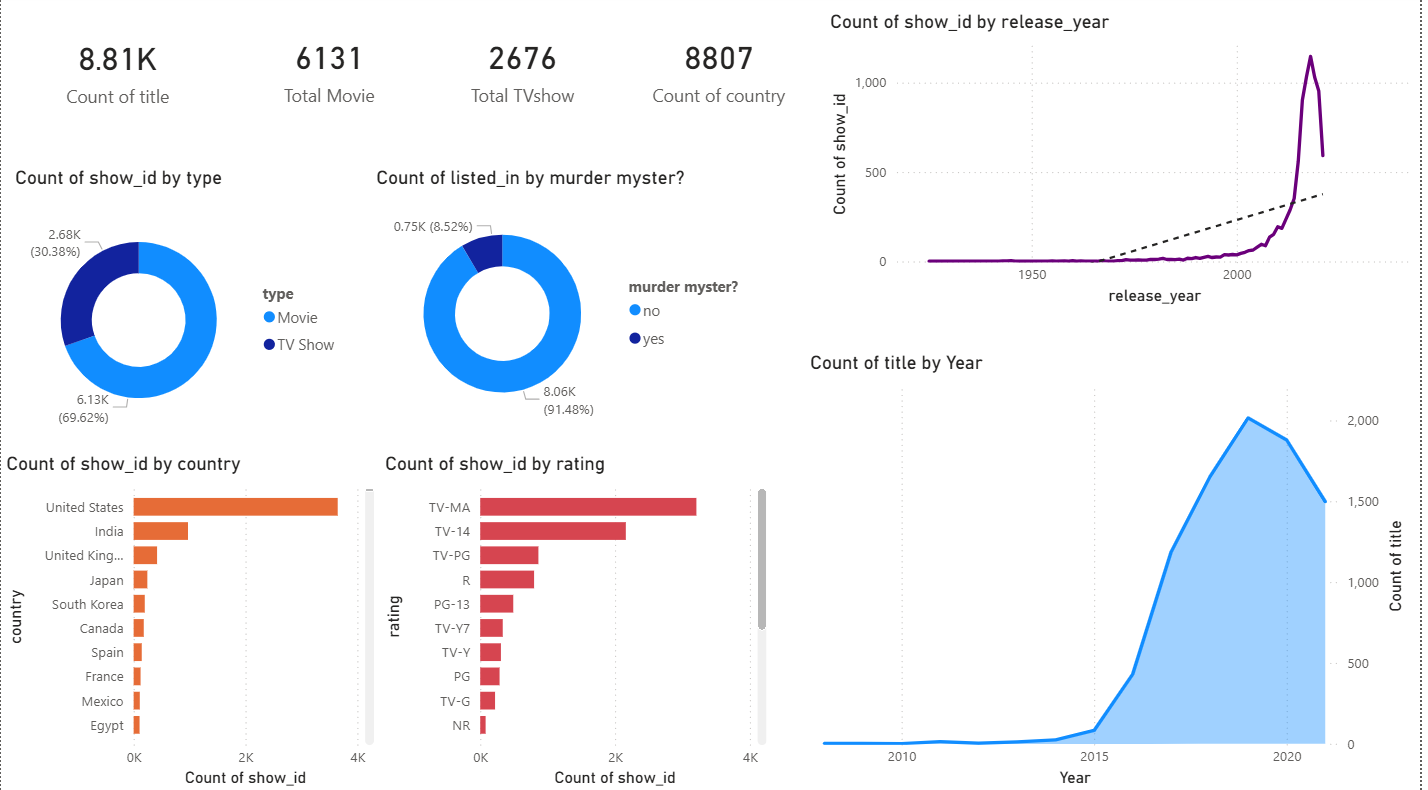

This screenshot's page, from the dashboard's own definition file:
{"tool":"powerbi","page":{"name":"Page 1","canvas":[1280,720],"ordinal":0},"visuals":[{"type":"donutChart","fields":{"Category":["netflix_titles.type"],"Y":["CountNonNull(netflix_titles.show_id)"]},"box":[8.1,155.8,307,258.1],"z":0},{"type":"lineChart","fields":{"Category":["netflix_titles.release_year"],"Y":["CountNonNull(netflix_titles.show_id)"]},"box":[742.8,14.7,537.6,270.5],"z":1000},{"type":"barChart","fields":{"Category":["netflix_titles.country"],"Y":["CountNonNull(netflix_titles.show_id)"]},"box":[0,413.7,341.5,306.6],"z":2000},{"type":"clusteredBarChart","fields":{"Category":["netflix_titles.rating"],"Y":["CountNonNull(netflix_titles.show_id)"]},"box":[341.5,413.7,353.9,306.6],"z":3000},{"type":"areaChart","fields":{"Category":["netflix_titles.date_added.Variation.Date Hierarchy.Year","netflix_titles.date_added.Variation.Date Hierarchy.Quarter","netflix_titles.date_added.Variation.Date Hierarchy.Month","netflix_titles.date_added.Variation.Date Hierarchy.Day"],"Y2":["CountNonNull(netflix_titles.title)"]},"box":[724.4,322.1,545.4,397.7],"z":4000},{"type":"card","fields":{"Values":["CountNonNull(netflix_titles.title)"]},"box":[0,1.2,210.8,132.8],"z":6000},{"type":"card","fields":{"Values":["category=mapping.Total Movie"]},"box":[210.5,0,170.9,133.7],"z":6001},{"type":"card","fields":{"Values":["category=mapping.Total TVshow"]},"box":[382.6,0,176.7,133.7],"z":6002},{"type":"card","fields":{"Values":["CountNonNull(netflix_titles.country)"]},"box":[560.2,0,174.7,134.1],"z":6003},{"type":"donutChart","fields":{"Y":["CountNonNull(netflix_titles.listed_in)"],"Category":["netflix_titles.murder myster?"]},"box":[333.7,155.8,344.2,246.5],"z":6004}]}

Visuals, with their boxes in screenshot pixels (x1, y1, x2, y2), scaled from the page's 1280x720 canvas onto the 1428x790 screenshot:
donutChart - netflix_titles.type x CountNonNull(netflix_titles.show_id): bbox=(9, 171, 352, 454)
lineChart - netflix_titles.release_year x CountNonNull(netflix_titles.show_id): bbox=(829, 16, 1427, 313)
barChart - netflix_titles.country x CountNonNull(netflix_titles.show_id): bbox=(0, 454, 381, 789)
clusteredBarChart - netflix_titles.rating x CountNonNull(netflix_titles.show_id): bbox=(381, 454, 776, 789)
areaChart - netflix_titles.date_added.Variation.Date Hierarchy.Year x netflix_titles.date_added.Variation.Date Hierarchy.Quarter: bbox=(808, 353, 1417, 789)
card - CountNonNull(netflix_titles.title): bbox=(0, 1, 235, 147)
card - category=mapping.Total Movie: bbox=(235, 0, 425, 147)
card - category=mapping.Total TVshow: bbox=(427, 0, 624, 147)
card - CountNonNull(netflix_titles.country): bbox=(625, 0, 820, 147)
donutChart - CountNonNull(netflix_titles.listed_in) x netflix_titles.murder myster?: bbox=(372, 171, 756, 441)
